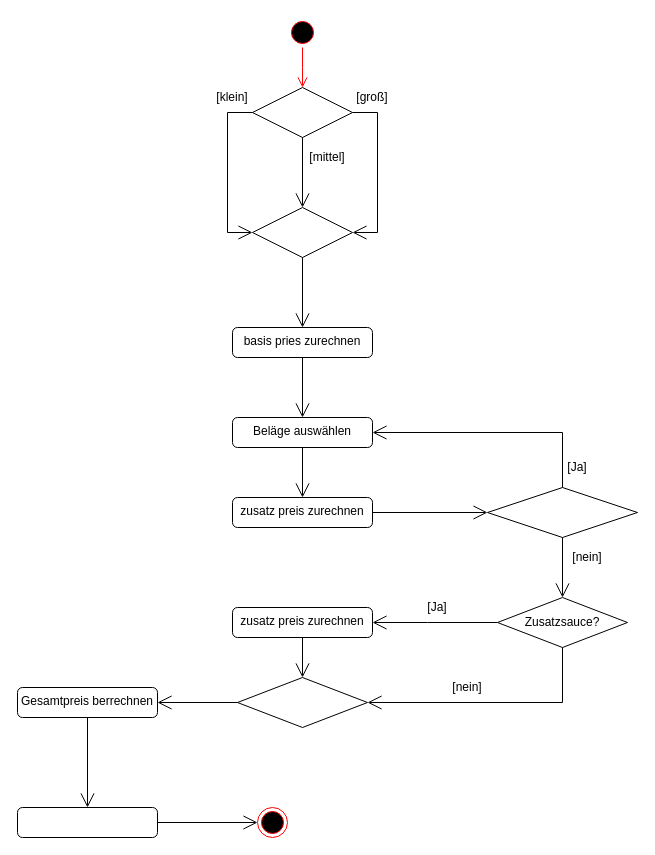
Image size: 655x855. Some labels were removed from this diagram. The box of each missing label's shape, as (x1, y1, x2, y2) in pixels:
Gesamtpreis Anzeigen: (16, 806, 158, 838)
noch ein Belag?: (486, 486, 638, 538)
Pizza Große?: (252, 86, 352, 138)
